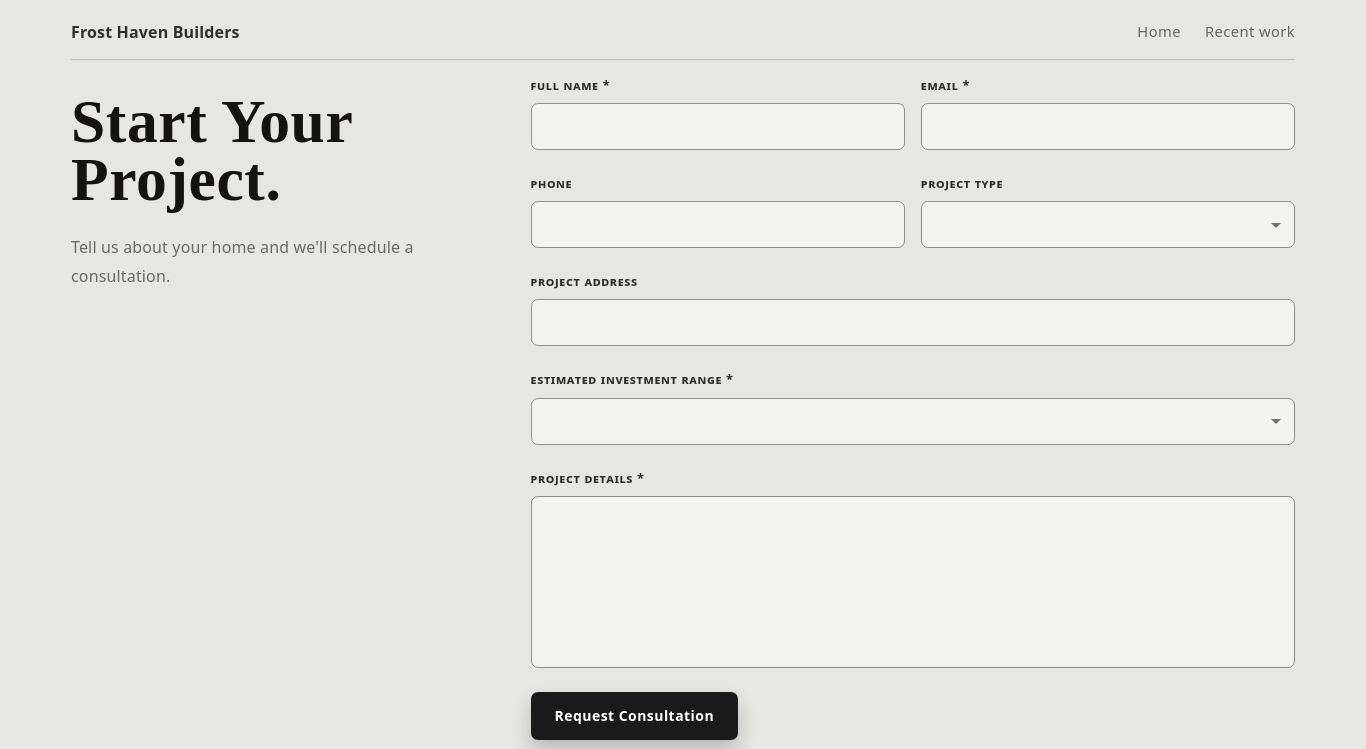
Test case: Contact route › shows validation errors when required fields are empty
Click the button "Request Consultation" at (634, 716), box [531,692,738,740]
(page scrolled)
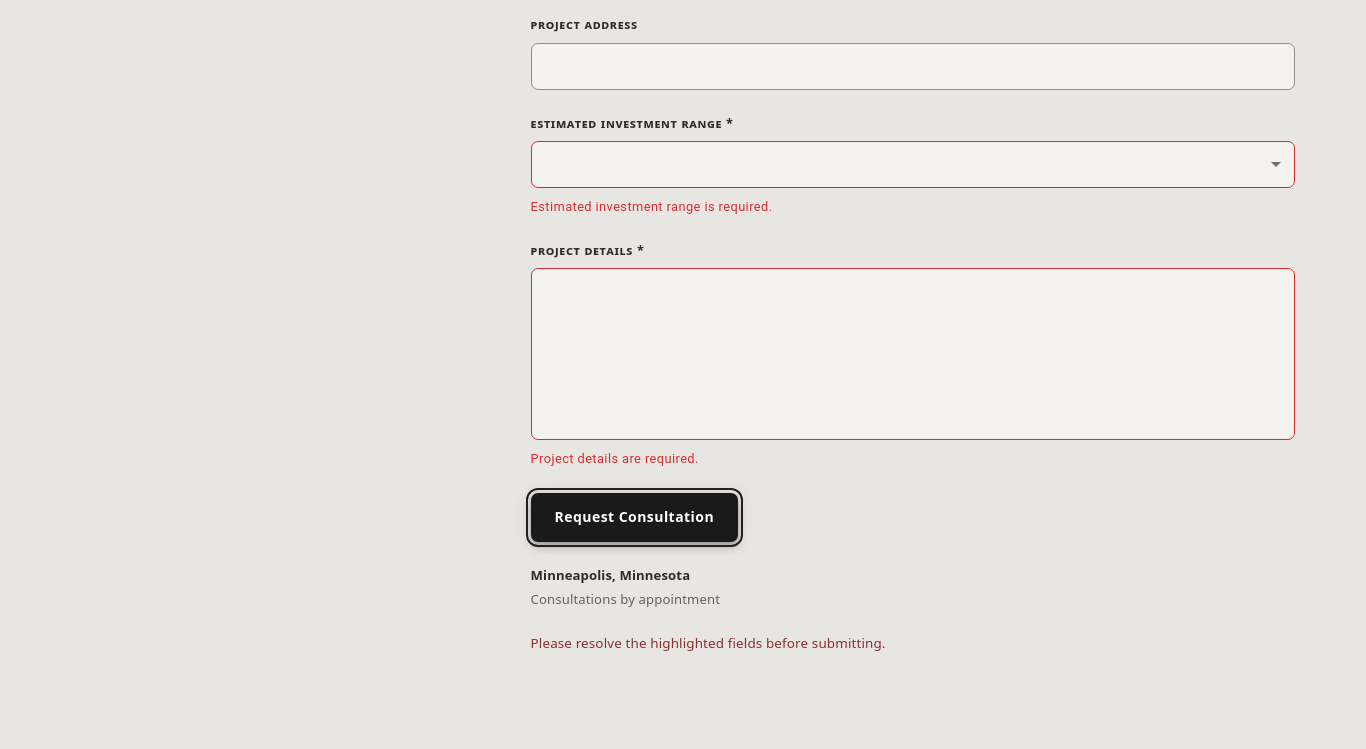
Check: the text "Estimated investment range is required." is shown, box [531,199,772,214]
Check: the text "Project details are required." is shown, box [531,451,699,466]
